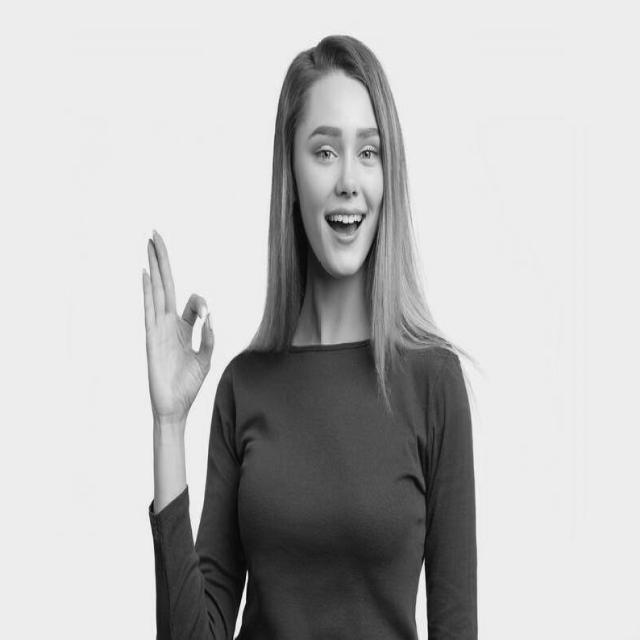perfect: (138, 221, 218, 426)
